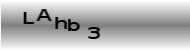3: (87, 25, 101, 40)
A: (35, 8, 52, 22)
L: (22, 10, 35, 26)
b: (67, 18, 80, 32)
h: (53, 15, 67, 29)
